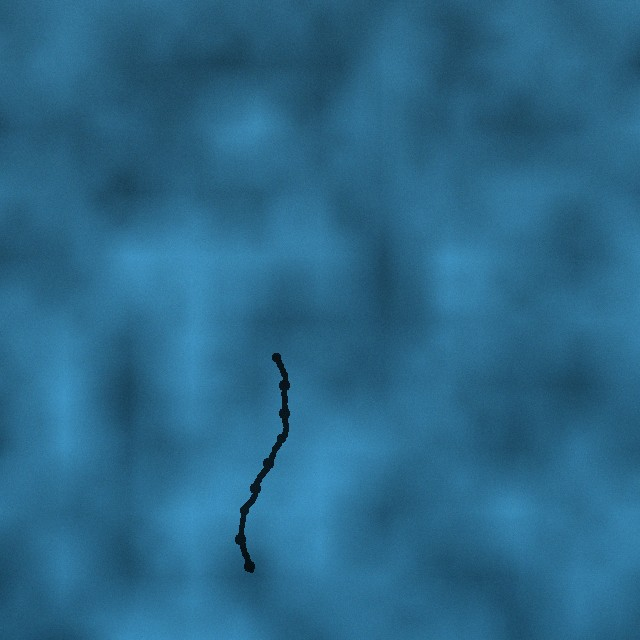crack: (235, 352, 291, 575)
